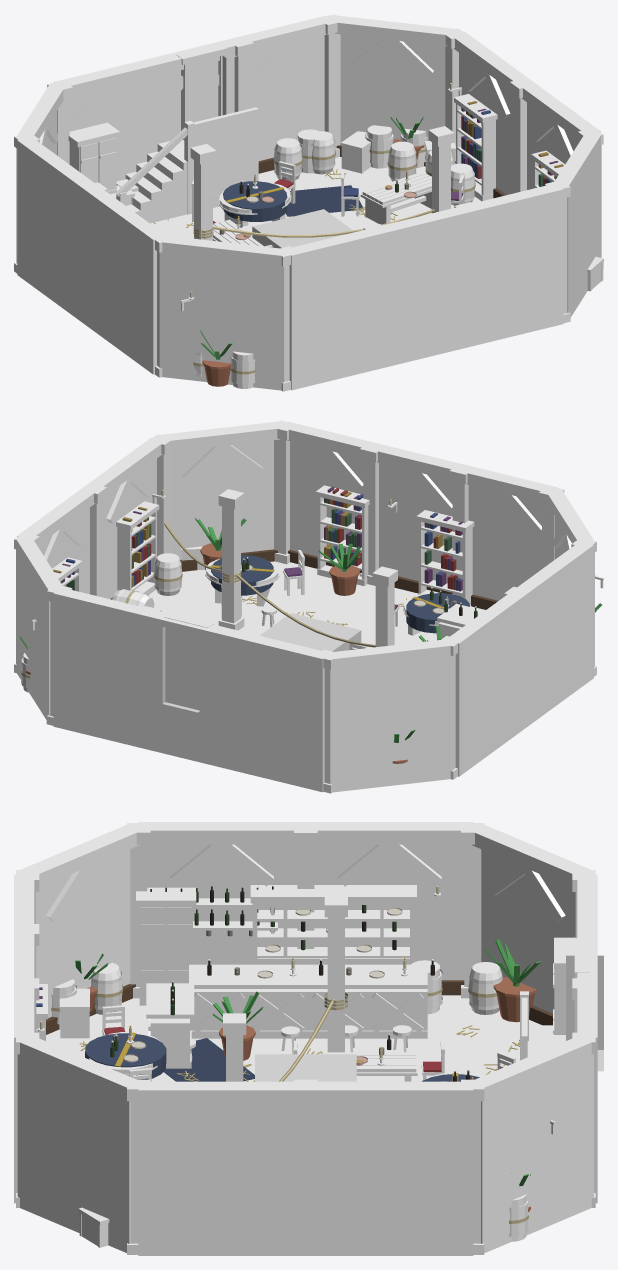
File: taverna.glb
3 renders of one model, top to bottom at view 1: azimuth 30°, elevation 25°; view 2: azimuth 150°, elevation 25°; view 3: azimuth 270°, elevation 25°, orthographic. The views are drawn at different scales.
Parts seen in each view (by area): view 1: 02_muro_0, 02_muro_6, 02_muro_7, 02_muro_4, 02_muro_3, 02_muro_2, 02_muro_1, 01_pavimento, 03_dormiente_4, 03_dormiente_2, Cube, 04_parapetto_pianerottolo (+40 smaller); view 2: 02_muro_4, 02_muro_6, 02_muro_5, 02_muro_0, 02_muro_1, 01_pavimento, 02_muro_2, 02_muro_3, 03_dormiente_0, 03_dormiente_2, Cube, 03_montante_lib_b (+30 smaller); view 3: 02_muro_2, 02_muro_1, 02_muro_3, 02_muro_6, 01_pavimento, 02_muro_7, 02_muro_5, 03_dormiente_6, 05_corpo_principale, 05_piano_principale, 05_credenza_cimasa, Cube (+45 smaller).
Part boxes in pixels (x1=…): 02_muro_0: x1=288, y1=186, x2=563, y2=390; 02_muro_6: x1=17, y1=139, x2=160, y2=374; 02_muro_7: x1=159, y1=238, x2=285, y2=390; 02_muro_4: x1=54, y1=15, x2=330, y2=181; 02_muro_3: x1=332, y1=15, x2=457, y2=142; 02_muro_2: x1=456, y1=31, x2=600, y2=194; 02_muro_1: x1=563, y1=135, x2=601, y2=317; 01_pavimento: x1=150, y1=157, x2=480, y2=238; 03_dormiente_4: x1=60, y1=18, x2=332, y2=96; 03_dormiente_2: x1=451, y1=32, x2=590, y2=138; Cube: x1=252, y1=209, x2=352, y2=248; 04_parapetto_pianerottolo: x1=193, y1=107, x2=258, y2=154; 02_muro_4: x1=53, y1=590, x2=326, y2=792; 02_muro_6: x1=451, y1=544, x2=593, y2=776; 02_muro_5: x1=328, y1=642, x2=452, y2=792; 02_muro_0: x1=284, y1=421, x2=557, y2=600; 02_muro_1: x1=159, y1=421, x2=282, y2=559; 01_pavimento: x1=148, y1=561, x2=485, y2=648; 02_muro_2: x1=17, y1=437, x2=156, y2=598; 02_muro_3: x1=16, y1=540, x2=56, y2=719; 03_dormiente_0: x1=281, y1=424, x2=551, y2=501; 03_dormiente_2: x1=24, y1=439, x2=165, y2=543; Cube: x1=260, y1=613, x2=361, y2=651; 03_montante_lib_b: x1=222, y1=505, x2=240, y2=623; 02_muro_2: x1=138, y1=1085, x2=473, y2=1255; 02_muro_1: x1=17, y1=1038, x2=137, y2=1252; 02_muro_3: x1=474, y1=1038, x2=593, y2=1253; 02_muro_6: x1=138, y1=822, x2=473, y2=980; 01_pavimento: x1=46, y1=995, x2=541, y2=1081; 02_muro_7: x1=20, y1=824, x2=134, y2=1018; 02_muro_5: x1=476, y1=824, x2=590, y2=1013; 03_dormiente_6: x1=138, y1=825, x2=472, y2=844; 05_corpo_principale: x1=190, y1=989, x2=427, y2=1030; 05_piano_principale: x1=189, y1=964, x2=427, y2=988; 05_credenza_cimasa: x1=250, y1=885, x2=416, y2=903; Cube: x1=255, y1=1054, x2=356, y2=1081.
Bounding box in the file's own units: 12.5 × 4.61 × 11.62.
